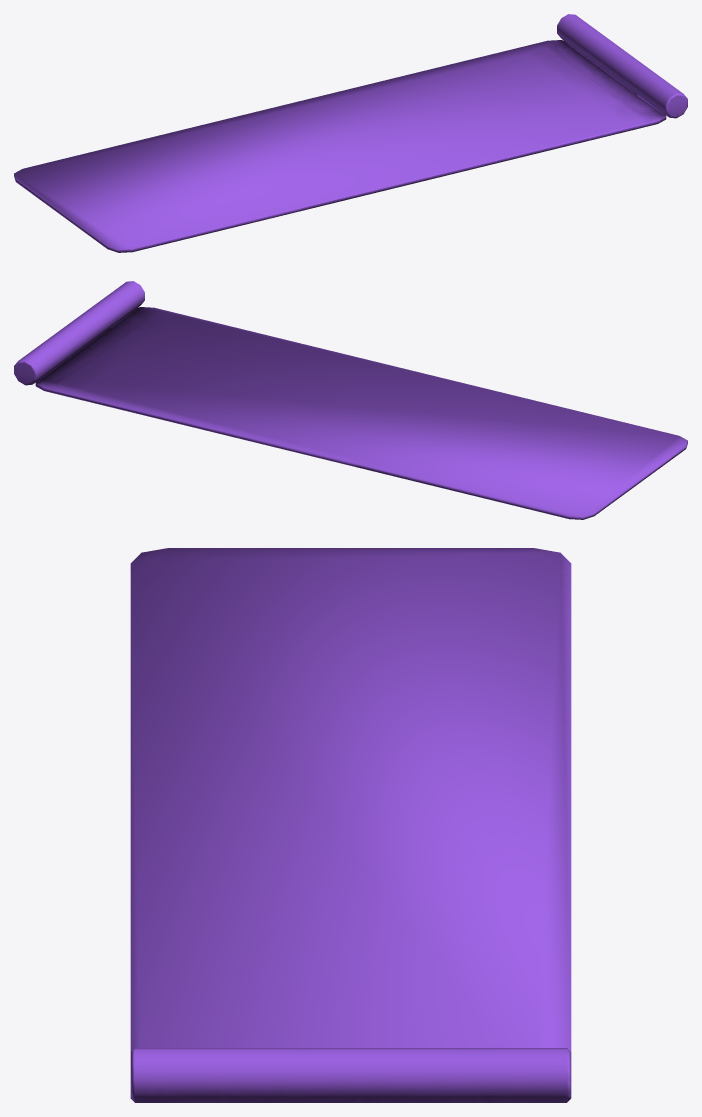
File: yoga_mat.glb
3 renders of one model, top to bottom at view 1: azimuth 30°, elevation 25°; view 2: azimuth 150°, elevation 25°; view 3: azimuth 270°, elevation 25°, orthographic. The views are drawn at different scales.
Visible parts, largest first — view 1: yoga_mat; view 2: yoga_mat; view 3: yoga_mat.
Boxes of the visible parts, x1,y1,x2,y2 form: yoga_mat: [14, 14, 687, 252]; yoga_mat: [14, 281, 687, 519]; yoga_mat: [130, 548, 571, 1102].
Size of the model in its own units: 1.8 by 0.076 by 0.6.
Materials: 1 (1 with a texture image).
